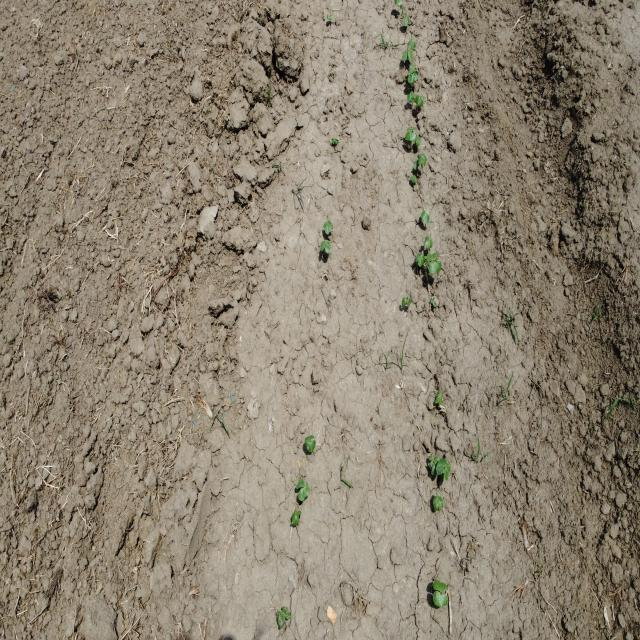seedling_s3: (433, 590, 448, 608), (428, 260, 442, 274), (436, 458, 447, 475), (298, 486, 310, 501), (433, 579, 448, 591), (305, 439, 316, 453), (277, 610, 285, 629), (444, 461, 451, 481), (296, 479, 308, 489), (291, 510, 298, 526), (421, 210, 429, 224), (434, 390, 442, 404), (436, 493, 443, 509), (406, 131, 416, 142), (429, 455, 440, 465), (283, 606, 291, 619), (408, 73, 418, 83), (415, 96, 424, 107), (427, 253, 438, 262), (323, 221, 330, 235), (429, 461, 436, 475), (425, 238, 433, 250), (433, 496, 439, 511), (415, 252, 423, 263), (321, 240, 328, 252), (418, 255, 425, 267), (305, 435, 315, 443), (325, 241, 331, 254), (402, 49, 408, 61), (409, 64, 417, 73), (407, 94, 415, 103), (422, 152, 427, 166), (413, 160, 420, 170), (415, 136, 421, 147), (404, 15, 409, 27), (408, 50, 413, 62), (418, 153, 423, 165), (394, 0, 402, 7), (327, 221, 333, 230), (297, 510, 301, 523), (411, 38, 415, 51), (402, 297, 407, 307), (411, 175, 417, 183), (407, 298, 412, 307), (332, 138, 338, 145), (407, 127, 417, 131), (407, 40, 411, 49), (438, 396, 442, 405), (327, 15, 332, 20)
